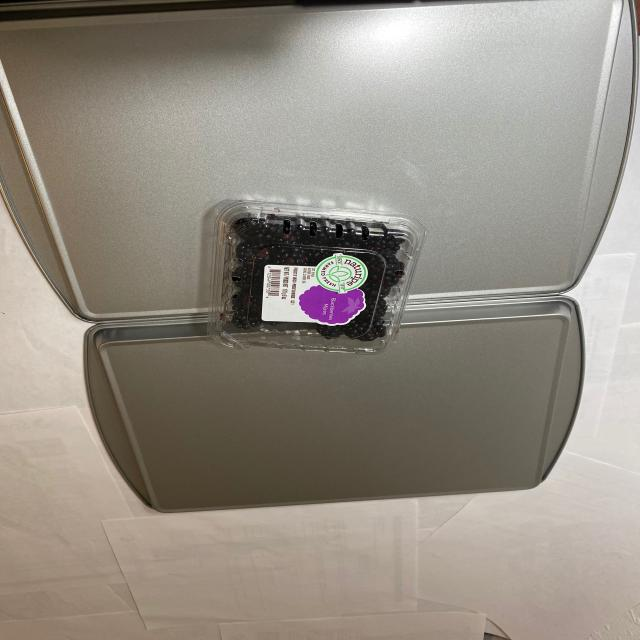blackberries: (210, 198, 416, 360)
